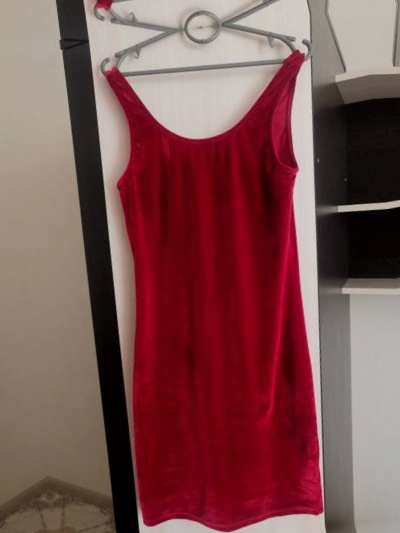Dress: (70, 26, 370, 533), (7, 0, 308, 32), (132, 529, 400, 533)
